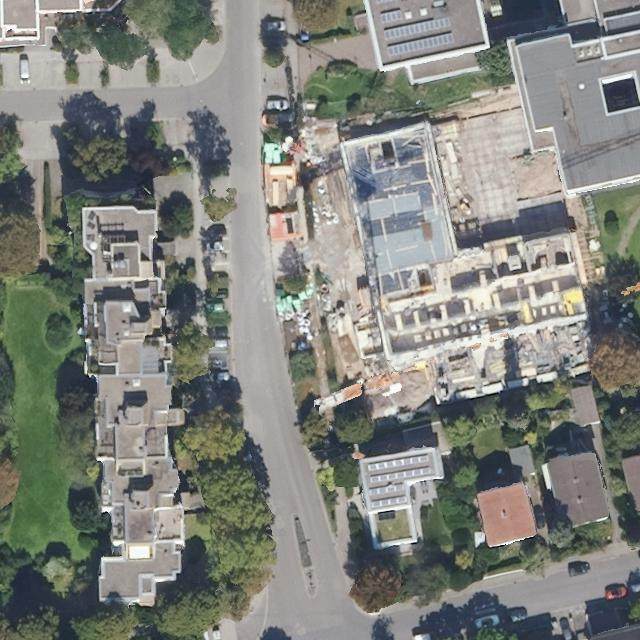PV: (382, 16, 453, 42), (386, 32, 457, 58), (367, 454, 430, 473), (369, 467, 432, 484), (367, 484, 405, 497), (370, 496, 408, 509), (378, 10, 403, 25)
